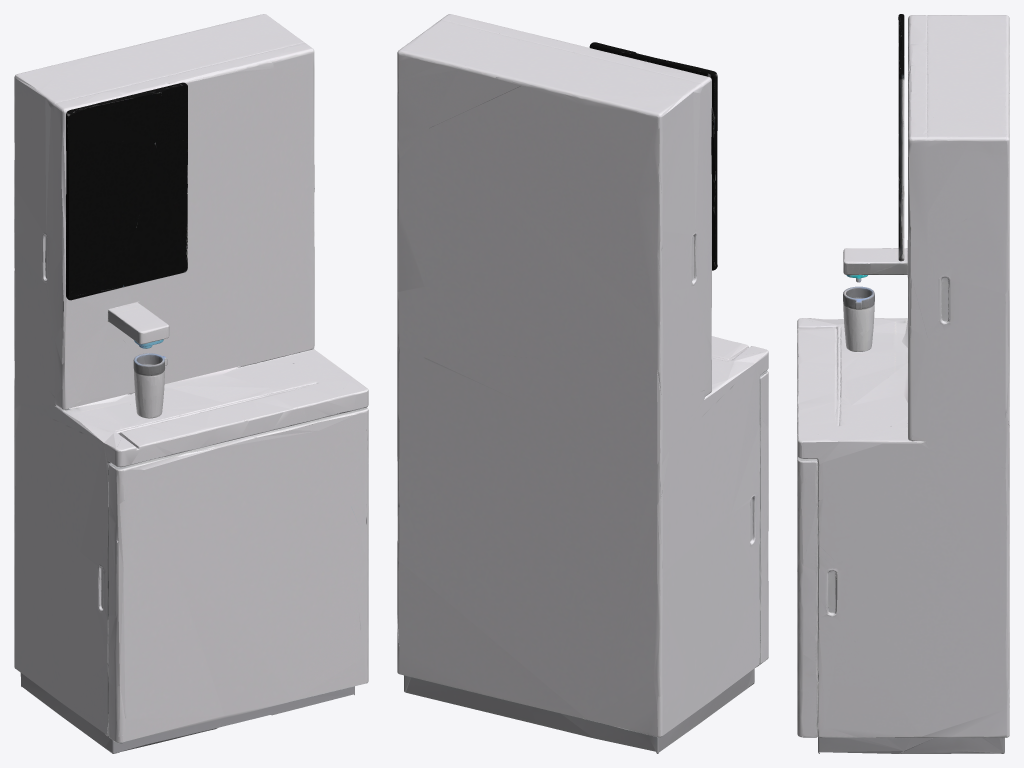
File: 디스펜서 3D 모델.glb
3 views of the same model, side by side, from view 1: azimuth 30°, elevation 25°; view 2: azimuth 150°, elevation 25°; view 3: azimuth 270°, elevation 25° (orthographic). The views are drawn at different scales.
Size of the model in its own units: 0.8203 by 1.9 by 0.5911.
1 material, 1 textured.
